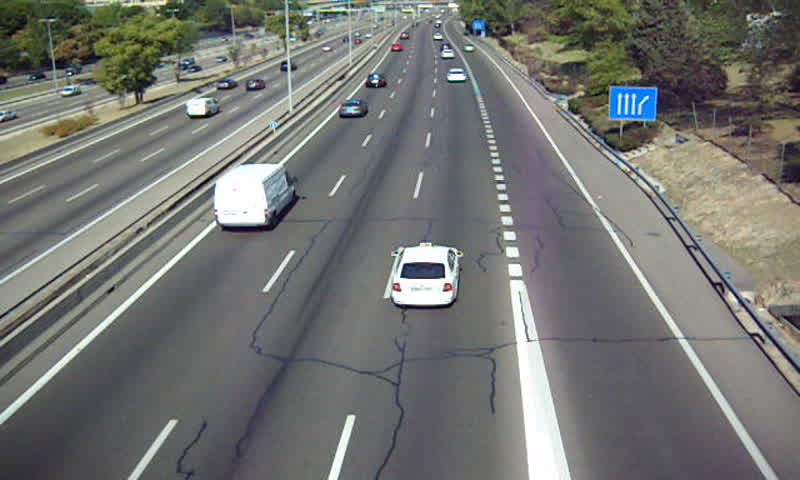car: (392, 246, 459, 306), (338, 100, 367, 120), (365, 72, 386, 91), (445, 68, 468, 84)
van: (215, 164, 298, 228)
